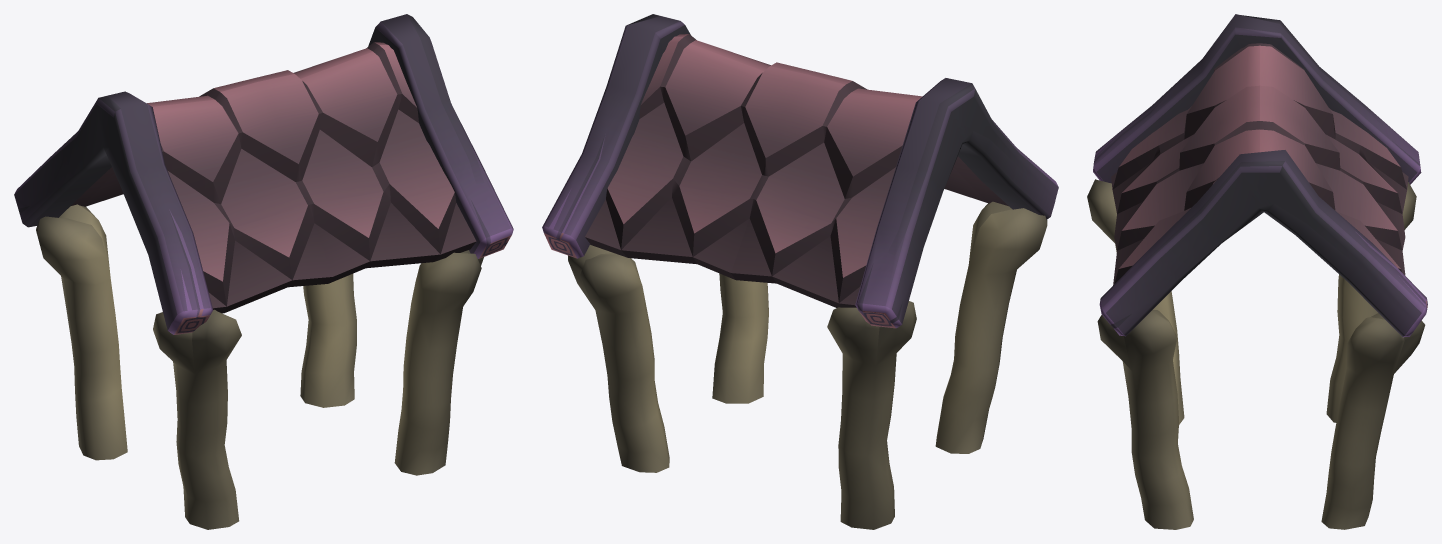
File: undead_roof.fbx
3 renders of one model, left to right at view 1: azimuth 30°, elevation 25°; view 2: azimuth 150°, elevation 25°; view 3: azimuth 270°, elevation 25°, orthographic. The views are drawn at different scales.
Parts seen in each view (by area): view 1: undead_roof; view 2: undead_roof; view 3: undead_roof.
Boxes of the visible parts, x1,y1,x2,y2 form: undead_roof: (14,14,513,529); undead_roof: (542,14,1058,529); undead_roof: (1087,14,1427,529).
Bounding box in the file's own units: 6.58 × 7.21 × 5.84.
